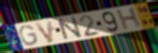2: (79, 14, 101, 38)
9: (101, 11, 120, 33)
G: (18, 24, 39, 46)
H: (116, 6, 143, 32)
N: (55, 15, 84, 42)
V: (33, 19, 54, 45)
